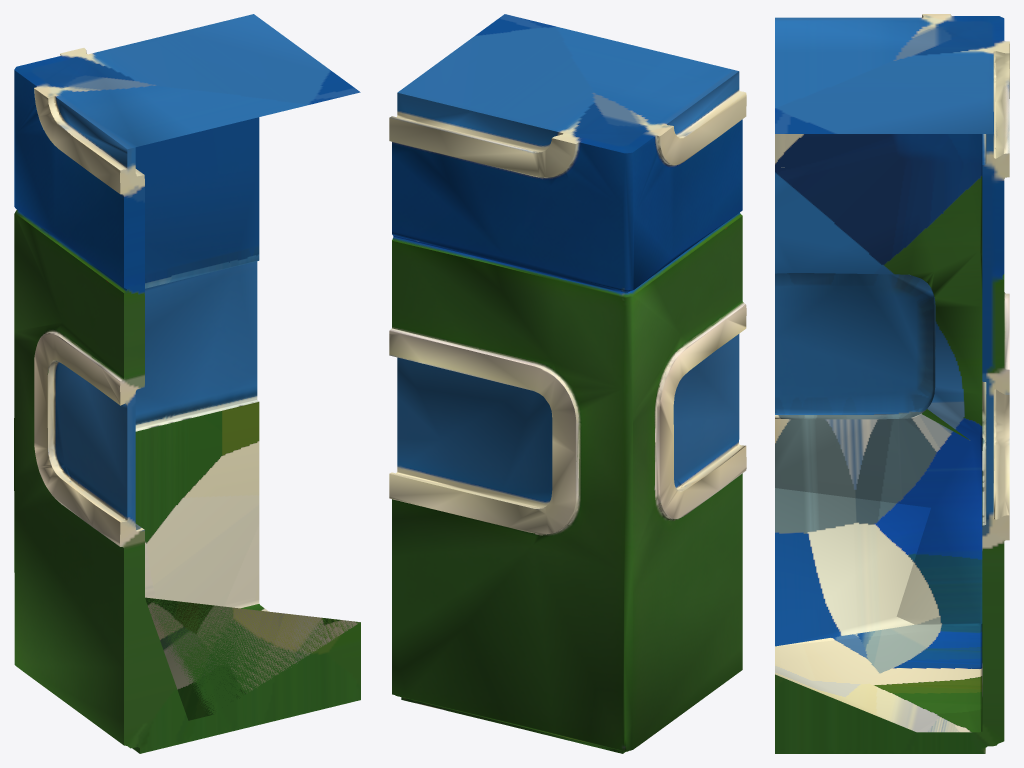
File: 3-ground-floor-back-left.fbx
The picture shows the model from 3 angles, left to right: view 1: azimuth 30°, elevation 25°; view 2: azimuth 150°, elevation 25°; view 3: azimuth 270°, elevation 25°; orthographic projection. The views are drawn at different scales.
Visible parts, largest first — view 1: ground-floor-back-left; view 2: ground-floor-back-left; view 3: ground-floor-back-left.
Part boxes in pixels (bbox=[...]): ground-floor-back-left: bbox=[14, 14, 360, 753]; ground-floor-back-left: bbox=[389, 14, 746, 753]; ground-floor-back-left: bbox=[775, 14, 1009, 753].
Bounding box in the file's own units: 4685 × 11295 × 3876.
1 material, 1 textured.
